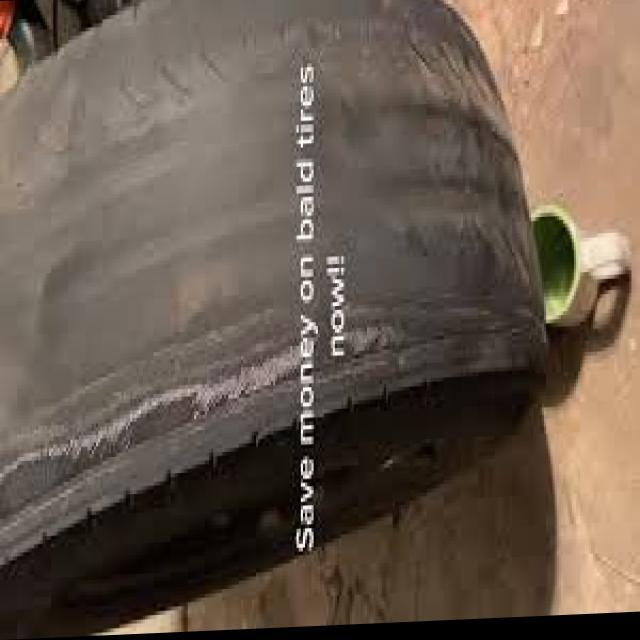Flat spots: (0, 94, 283, 412)
